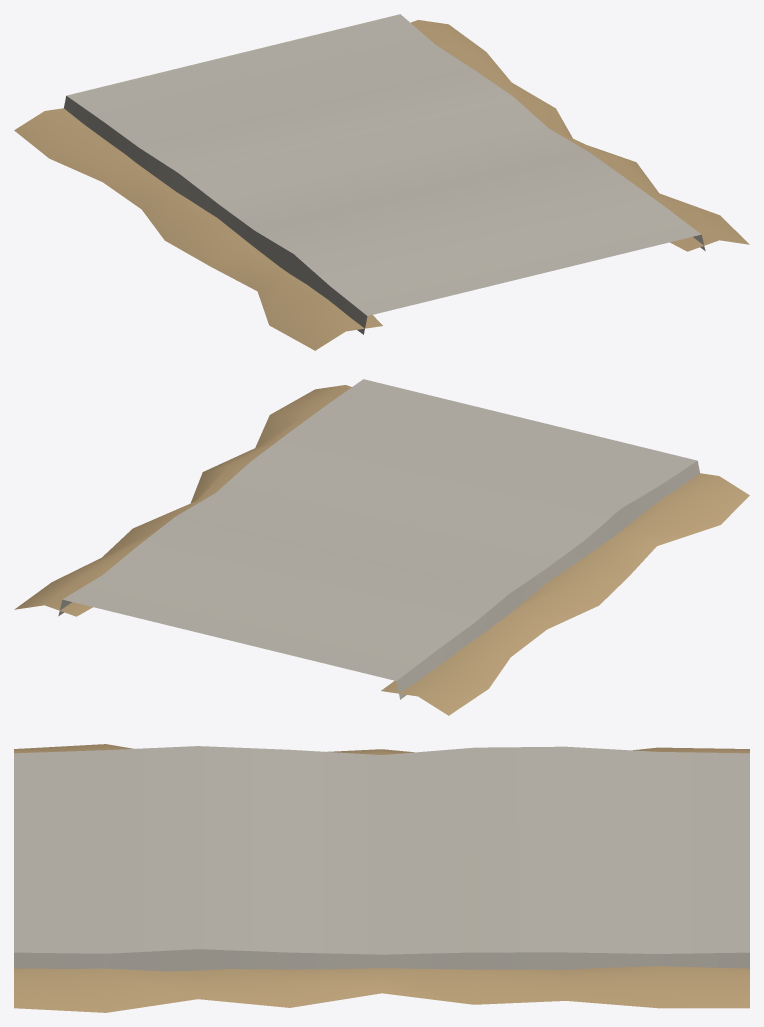
File: Building_mode_L2_Road001.fbx
3 renders of one model, top to bottom at view 1: azimuth 30°, elevation 25°; view 2: azimuth 150°, elevation 25°; view 3: azimuth 270°, elevation 25°, orthographic. The views are drawn at different scales.
Visible parts, largest first — view 1: Building_mode_L2_Road001; view 2: Building_mode_L2_Road001; view 3: Building_mode_L2_Road001.
Part boxes in pixels (bbox=[...]): Building_mode_L2_Road001: bbox=[14, 14, 749, 350]; Building_mode_L2_Road001: bbox=[14, 379, 749, 715]; Building_mode_L2_Road001: bbox=[14, 744, 749, 1012].
Size of the model in its own units: 2.59 by 0.1576 by 3.
